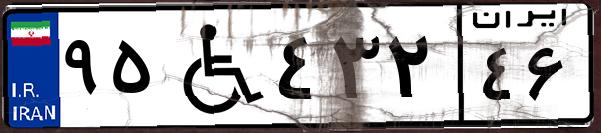2: (385, 28, 445, 110)
3: (330, 28, 385, 110)
4: (270, 28, 330, 110), (475, 38, 525, 113)
5: (110, 28, 158, 98)
6: (525, 38, 570, 115)
9: (57, 26, 110, 100)
ژ (معلولین و جانبازان): (158, 12, 270, 120)
